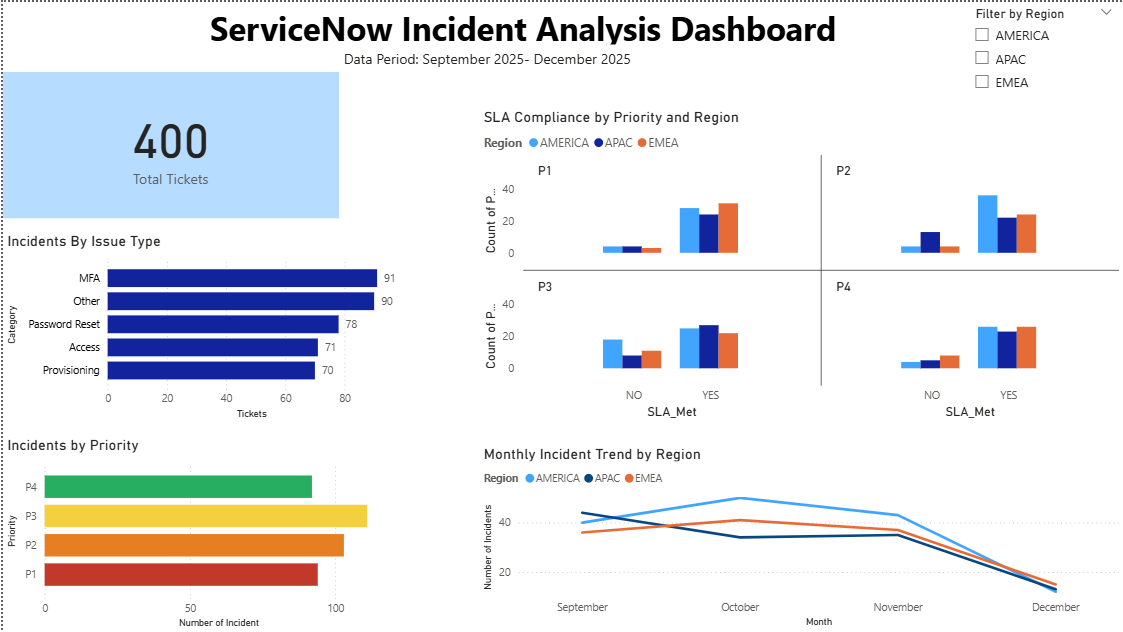

The page's visual inventory and layout, read from the dashboard file:
{"tool":"powerbi","page":{"name":"Page 1","canvas":[1280,720],"ordinal":0},"visuals":[{"type":"card","fields":{"Values":["CountNonNull(Sheet1.Incident_ID)"]},"box":[0,80,383.8,167.5],"z":0},{"type":"clusteredColumnChart","title":"SLA Compliance by Priority and Region","fields":{"Category":["Sheet1.SLA_Met"],"Series":["Sheet1.Region"],"Y":["CountNonNull(Sheet1.Priority)"],"Rows":["Sheet1.Priority"]},"box":[543.8,121.2,736.2,360],"z":1000},{"type":"clusteredBarChart","title":"Incidents By Issue Type","fields":{"Category":["Sheet1.Category"],"Y":["CountNonNull(Sheet1.Region)"]},"box":[0,262.5,461.2,218.8],"z":2000},{"type":"clusteredBarChart","title":"Incidents by Priority","fields":{"Category":["Sheet1.Priority"],"Y":["CountNonNull(Sheet1.Incident_ID)"]},"box":[0,495,461.2,225],"z":3000},{"type":"lineChart","title":"Monthly Incident Trend by Region","fields":{"Y":["CountNonNull(Sheet1.Incident_ID)"],"Category":["Sheet1.Created_Date.Variation.Date Hierarchy.Month"],"Series":["Sheet1.Region"]},"box":[544.2,506.3,736.1,214],"z":4000},{"type":"textbox","box":[231.2,0,806.2,60],"z":5000},{"type":"slicer","fields":{"Values":["Sheet1.Region"]},"box":[1098.8,0,181.2,121.2],"z":6000},{"type":"textbox","box":[383.8,48.8,360,31.2],"z":7000}]}

Visuals, with their boxes in screenshot pixels (x1, y1, x2, y2), scaled from the page's 1280x720 canvas onto the 1123x632 screenshot:
card - CountNonNull(Sheet1.Incident_ID): x1=0 y1=70 x2=337 y2=217
"SLA Compliance by Priority and Region" clusteredColumnChart: x1=477 y1=106 x2=1122 y2=422
"Incidents By Issue Type" clusteredBarChart: x1=0 y1=230 x2=405 y2=422
"Incidents by Priority" clusteredBarChart: x1=0 y1=434 x2=405 y2=631
"Monthly Incident Trend by Region" lineChart: x1=477 y1=444 x2=1122 y2=631
textbox: x1=203 y1=0 x2=910 y2=53
slicer - Sheet1.Region: x1=964 y1=0 x2=1122 y2=106
textbox: x1=337 y1=43 x2=653 y2=70
